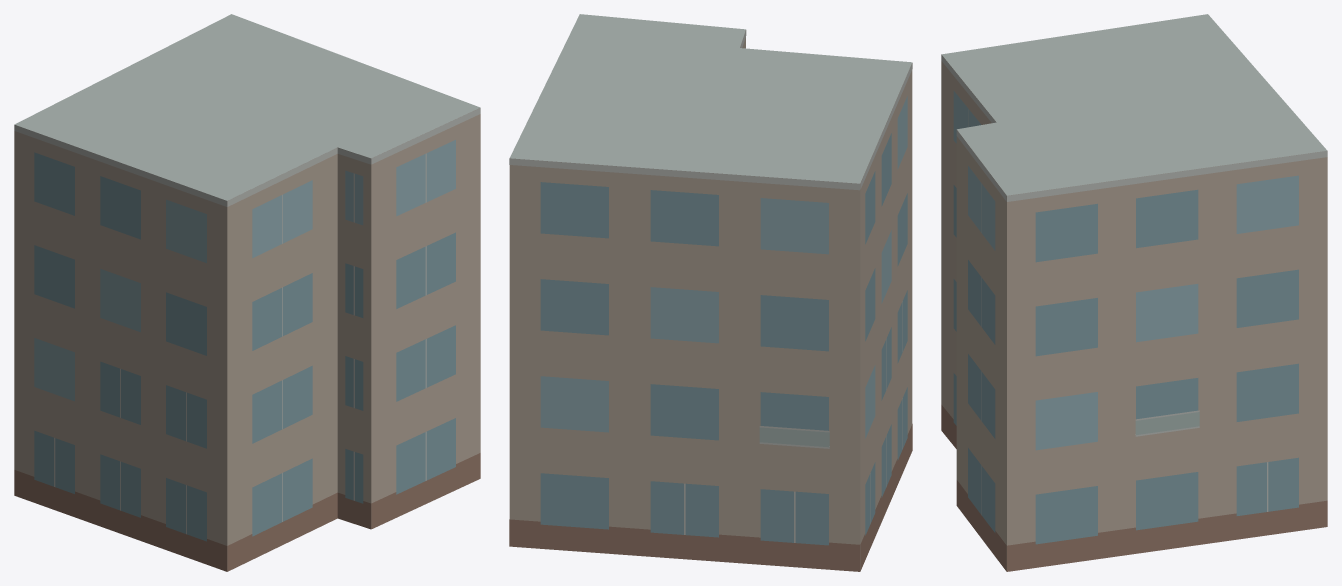
The model's file is survey-upis-32861198.glb.
The picture shows the model from 3 angles, left to right: view 1: azimuth 30°, elevation 25°; view 2: azimuth 150°, elevation 25°; view 3: azimuth 270°, elevation 25°; orthographic projection. The views are drawn at different scales.
Parts seen in each view (by area): view 1: survey-upis-32861198.tmp; view 2: survey-upis-32861198.tmp; view 3: survey-upis-32861198.tmp.
Part boxes in pixels (left/top/right/bottom): survey-upis-32861198.tmp: left=14, top=14, right=480, bottom=571; survey-upis-32861198.tmp: left=509, top=14, right=912, bottom=571; survey-upis-32861198.tmp: left=941, top=14, right=1327, bottom=571.
Bounding box in the file's own units: 14.93 × 14.4 × 13.41.
